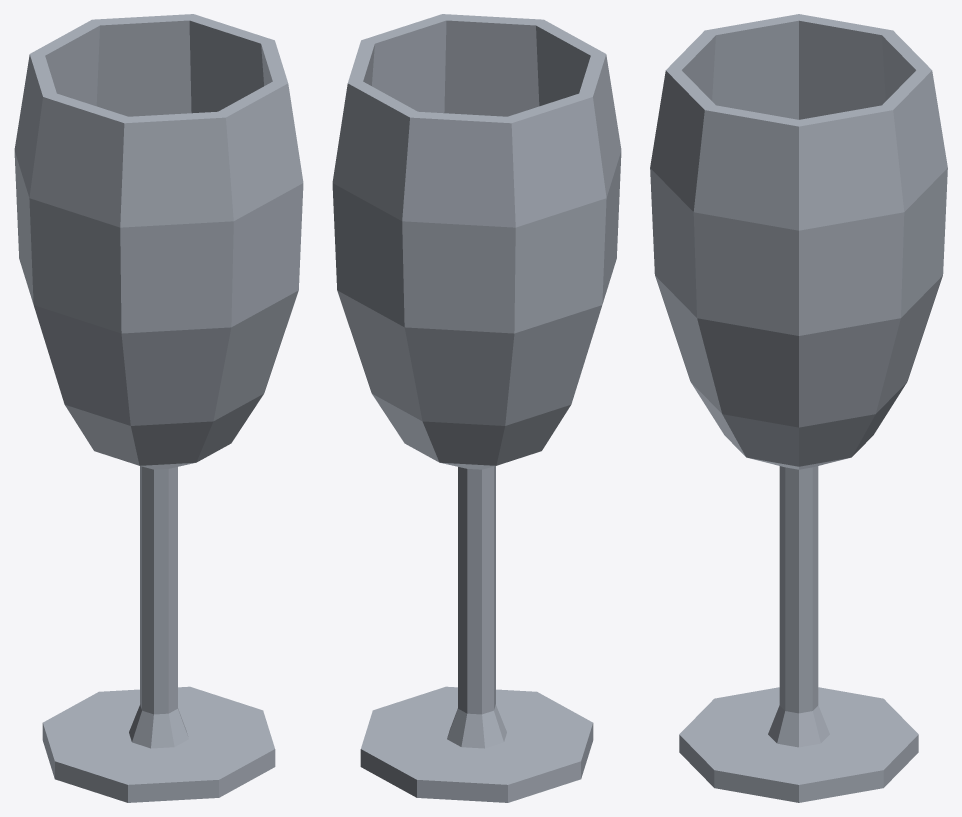
File: Wineglass2_C1.fbx
3 renders of one model, left to right at view 1: azimuth 30°, elevation 25°; view 2: azimuth 150°, elevation 25°; view 3: azimuth 270°, elevation 25°, orthographic.
Visible parts, largest first — view 1: Wineglass2_C1; view 2: Wineglass2_C1; view 3: Wineglass2_C1.
Boxes of the visible parts, bbox=[...] form: Wineglass2_C1: bbox=[14, 14, 303, 802]; Wineglass2_C1: bbox=[332, 14, 621, 802]; Wineglass2_C1: bbox=[650, 14, 947, 802].
Bounding box in the file's own units: 7.4 × 18.71 × 7.4.
